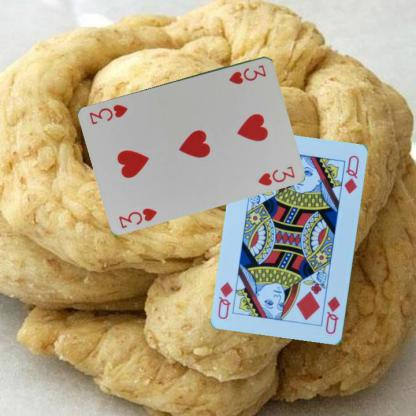3h: (116, 204, 158, 230), (226, 62, 268, 85)
Qd: (323, 294, 341, 336)
